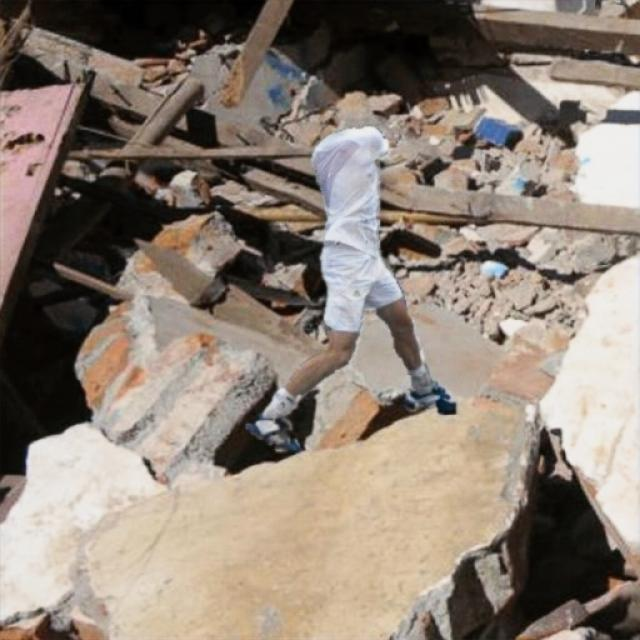Person in Rubble: (246, 126, 455, 450)
